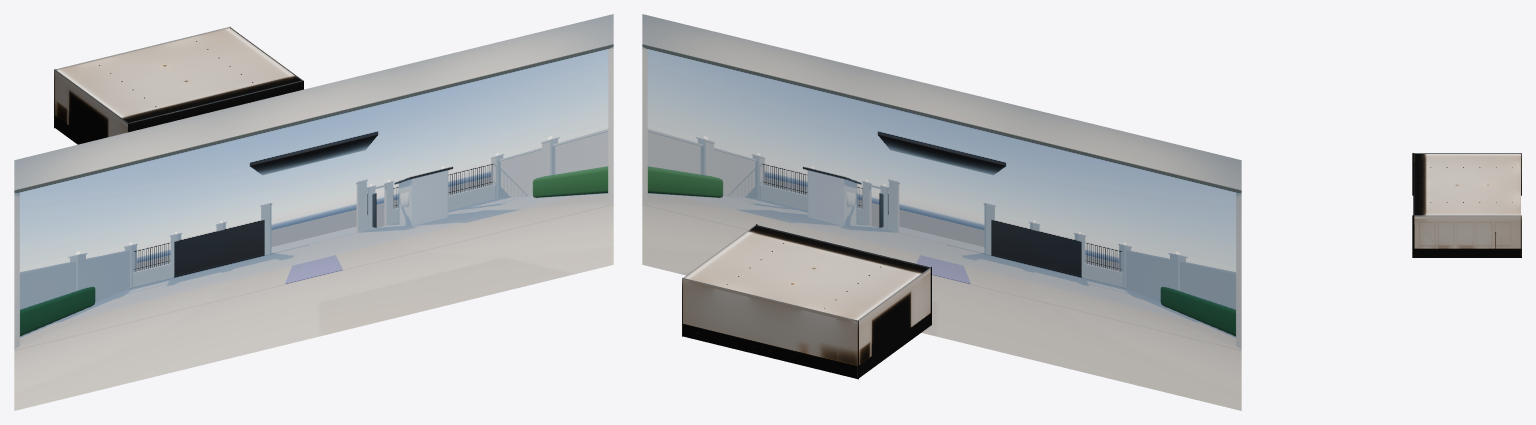
File: int_maison_adunni.glb
The picture shows the model from 3 angles, left to right: view 1: azimuth 30°, elevation 25°; view 2: azimuth 150°, elevation 25°; view 3: azimuth 270°, elevation 25°; orthographic projection. The views are drawn at different scales.
Visible parts, largest first — view 1: VIEW_front, ROOM; view 2: VIEW_front, ROOM; view 3: ROOM.
Part boxes in pixels (left/top/right/bottom): VIEW_front: left=14, top=14, right=613, bottom=410; ROOM: left=54, top=26, right=303, bottom=144; VIEW_front: left=642, top=14, right=1241, bottom=410; ROOM: left=682, top=224, right=931, bottom=379; ROOM: left=1412, top=153, right=1521, bottom=257.
Size of the model in its own units: 61.71 by 24.68 by 30.72.
Materials: 3 (2 with a texture image).
